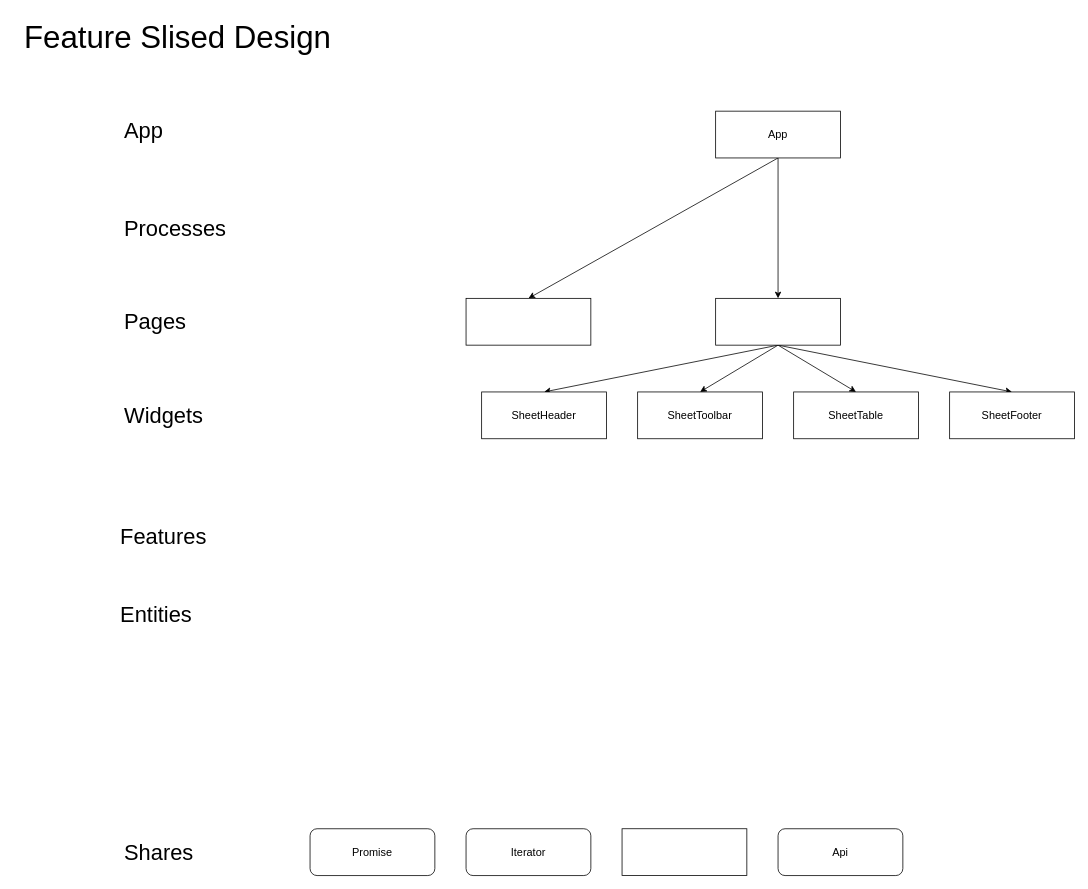
This 1088x889 diagram has some shape labels left out. Each missing label, with the centre of its shape:
CreateSheet: point 528,321
Hooks: point 684,852
Sheet: point 777,321
